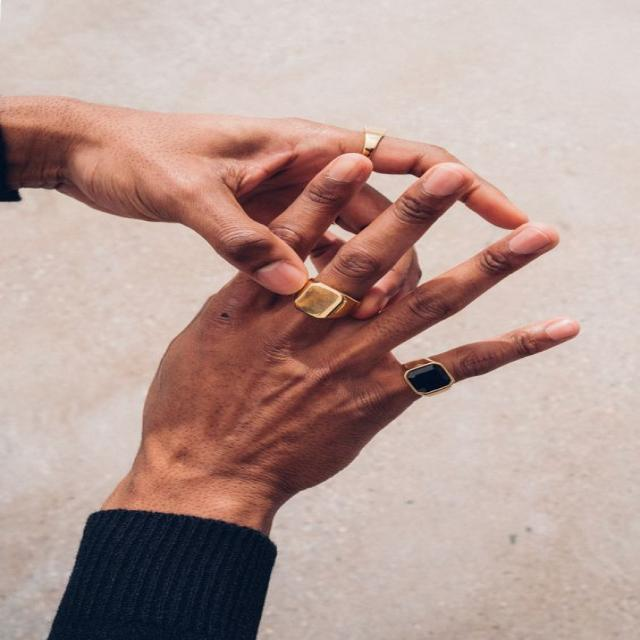Fingernail: (256, 261, 309, 295), (424, 166, 463, 195), (510, 227, 551, 253), (328, 155, 364, 183), (547, 320, 579, 340)
